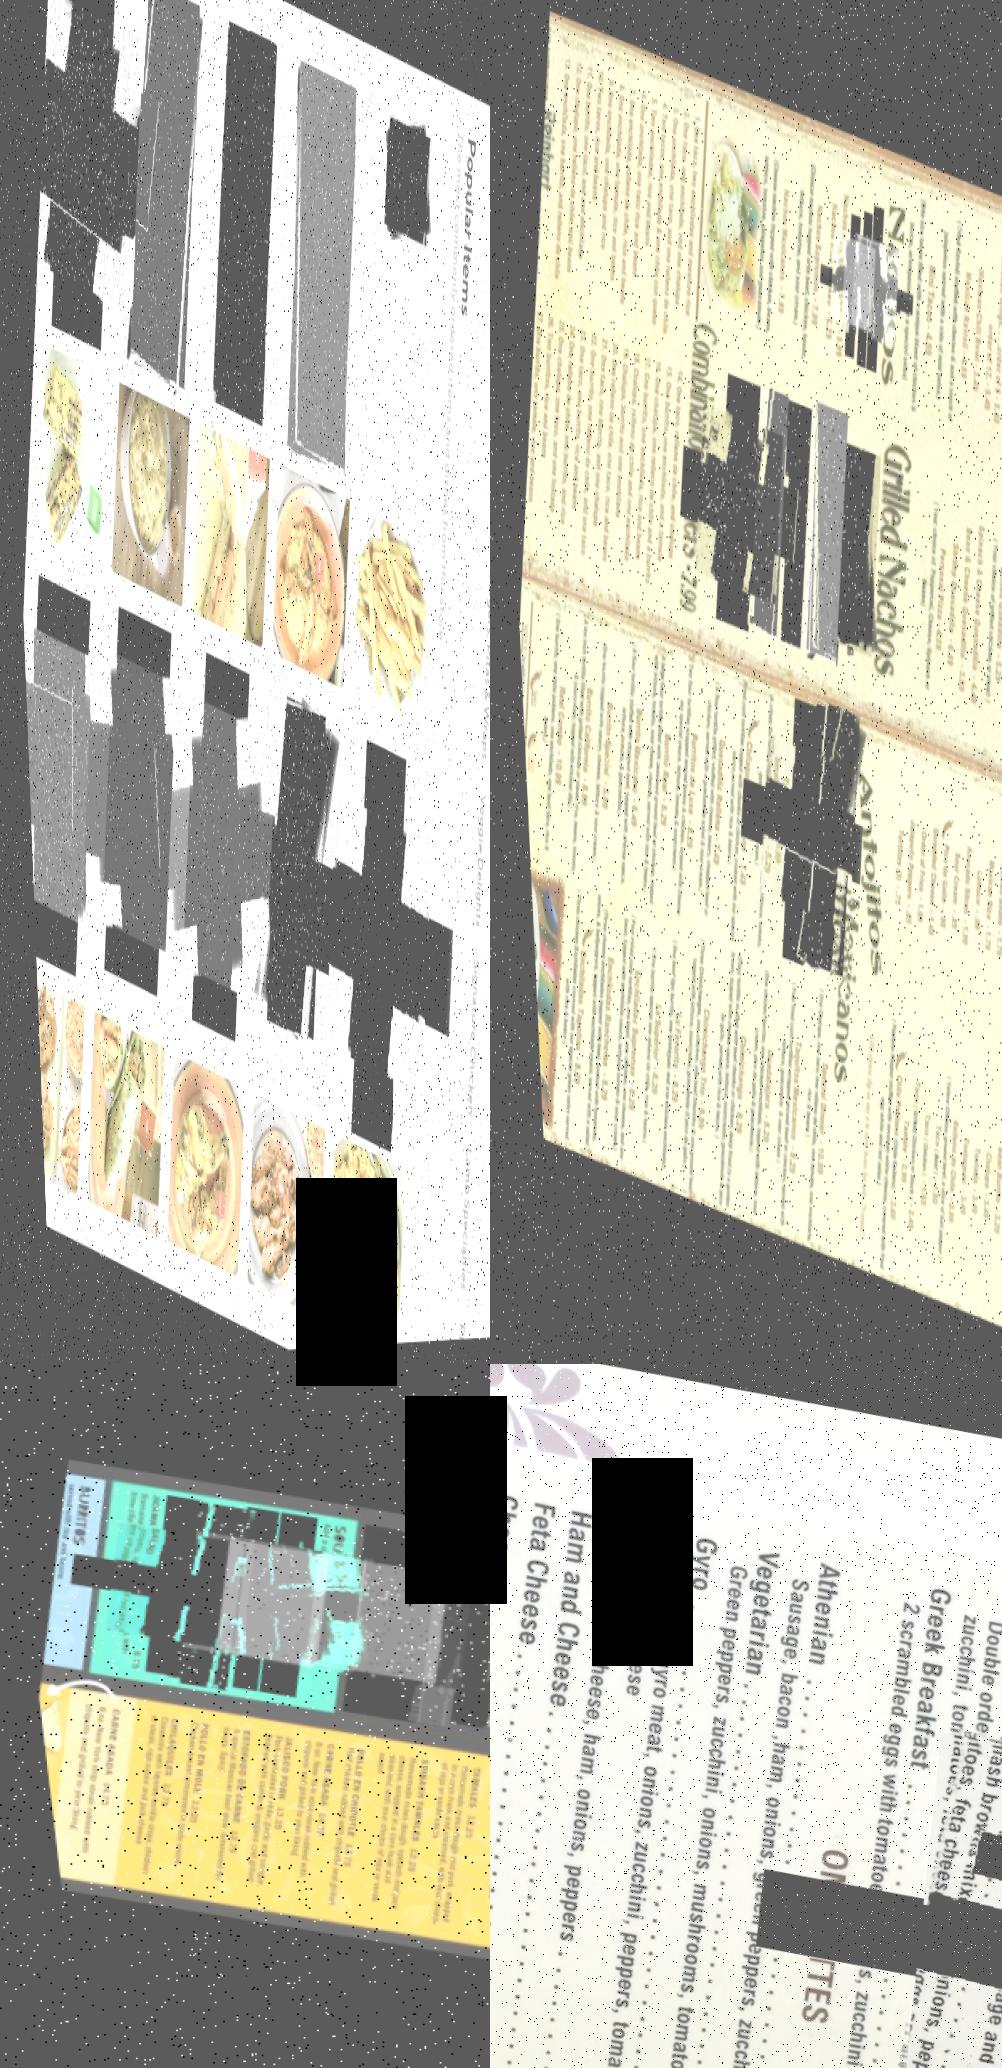Menu-Items: (490, 1521, 773, 2068), (606, 1555, 890, 2068), (551, 1542, 827, 2068), (715, 1572, 995, 2068), (490, 1517, 690, 2068), (790, 1591, 1002, 2068), (490, 1504, 645, 2068), (490, 1492, 608, 2068), (869, 1617, 1002, 2068), (828, 1730, 1002, 2068), (490, 1490, 574, 2068), (269, 62, 369, 491), (66, 637, 195, 968), (149, 683, 277, 1014), (112, 0, 211, 404), (309, 793, 431, 1109), (26, 0, 148, 317), (195, 18, 286, 430), (248, 688, 336, 1052), (18, 617, 113, 936), (154, 1527, 327, 1670), (311, 1558, 484, 1699), (781, 700, 861, 994), (277, 1554, 444, 1692), (144, 1501, 264, 1693), (196, 1539, 361, 1675), (86, 1521, 244, 1653), (682, 402, 782, 609), (73, 1482, 179, 1674), (744, 735, 841, 936), (382, 1757, 490, 1936), (555, 874, 621, 1163), (324, 1745, 436, 1914), (726, 691, 795, 967), (653, 913, 717, 1204), (697, 667, 763, 951), (382, 1539, 480, 1730), (684, 938, 750, 1217), (617, 630, 682, 915), (783, 402, 850, 671), (538, 600, 603, 878), (533, 868, 595, 1154), (588, 629, 651, 899), (33, 1695, 133, 1864), (646, 653, 707, 928), (98, 1705, 190, 1883), (720, 948, 779, 1224), (774, 980, 833, 1253), (746, 964, 806, 1236), (513, 600, 574, 864), (585, 894, 643, 1166), (287, 1742, 377, 1918), (815, 442, 883, 667), (675, 669, 733, 926), (170, 1721, 258, 1890), (733, 388, 791, 644), (214, 1728, 301, 1895), (417, 1546, 490, 1730), (761, 401, 815, 652), (635, 918, 686, 1179), (257, 1736, 340, 1891), (142, 1716, 220, 1877), (570, 629, 620, 876), (614, 931, 666, 1171), (440, 1766, 490, 1937), (378, 113, 434, 260), (451, 1550, 490, 1737), (842, 236, 899, 352), (833, 237, 887, 350), (821, 235, 875, 346), (471, 1552, 489, 1741)
